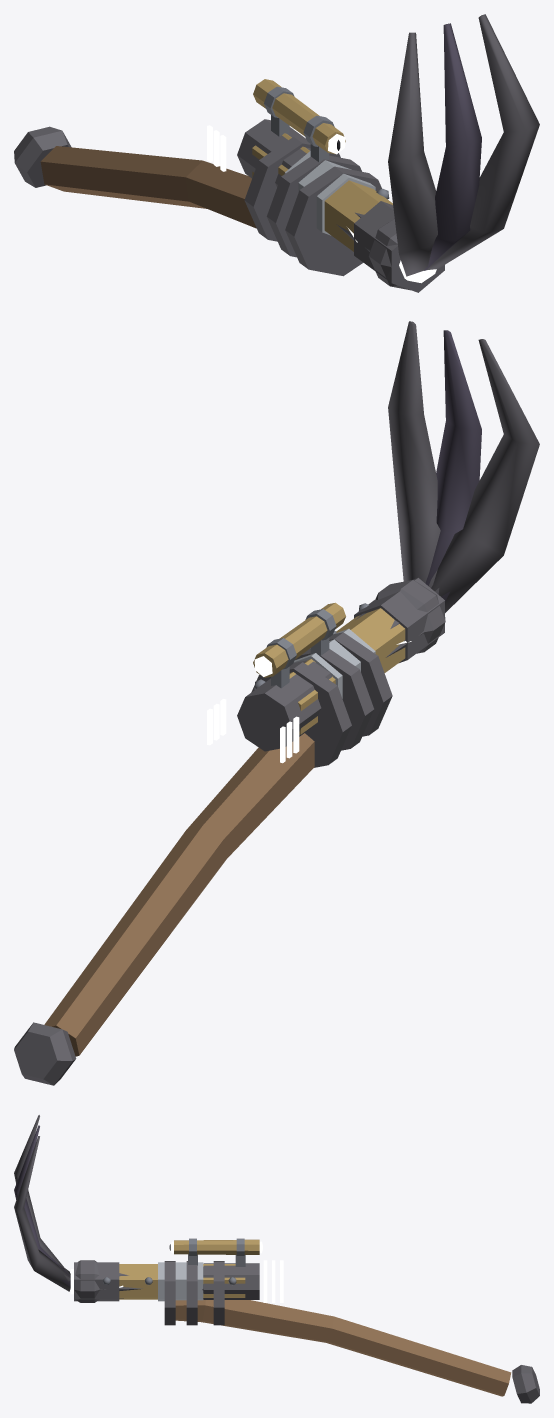
File: gun-smoke-pole.glb
3 renders of one model, top to bottom at view 1: azimuth 30°, elevation 25°; view 2: azimuth 150°, elevation 25°; view 3: azimuth 270°, elevation 25°, orthographic. The views are drawn at different scales.
Parts seen in each view (by area): view 1: gun-smoke-pole, pulse_breath; view 2: gun-smoke-pole, pulse_breath; view 3: gun-smoke-pole, pulse_breath.
Part boxes in pixels (box(x1,y1,x2,y2)): gun-smoke-pole: box(14, 14, 539, 292); pulse_breath: box(207, 125, 299, 171); gun-smoke-pole: box(14, 321, 539, 1085); pulse_breath: box(207, 699, 299, 763); gun-smoke-pole: box(14, 1115, 539, 1403); pulse_breath: box(263, 1260, 283, 1302).
Bounding box in the file's own units: 0.21 × 0.5992 × 1.04.
